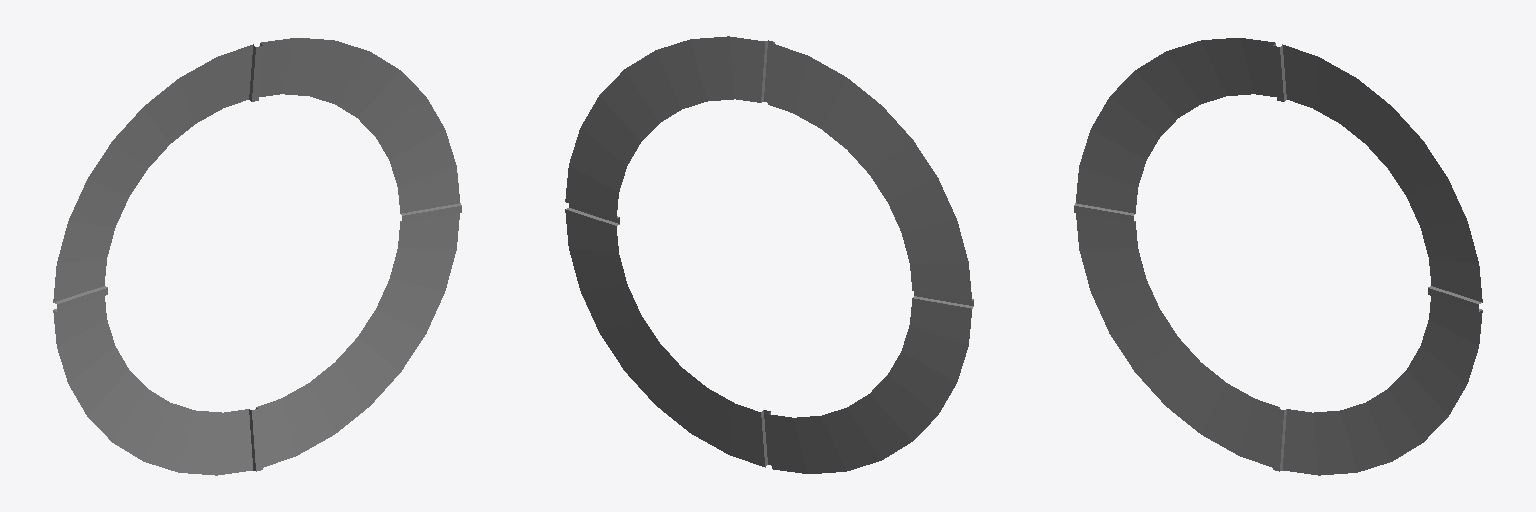
Rendered from ufo2.obj.
3 renders of one model, left to right at view 1: azimuth 30°, elevation 25°; view 2: azimuth 150°, elevation 25°; view 3: azimuth 330°, elevation 25°, orthographic.
Parts seen in each view (by area): view 1: Low_poly_UFO.002; view 2: Low_poly_UFO.002; view 3: Low_poly_UFO.002.
Part boxes in pixels (left/top/right/bottom): Low_poly_UFO.002: left=53, top=38, right=461, bottom=475; Low_poly_UFO.002: left=565, top=36, right=973, bottom=473; Low_poly_UFO.002: left=1074, top=38, right=1482, bottom=475.
Size of the model in its own units: 2.68 by 2.68 by 0.0801.